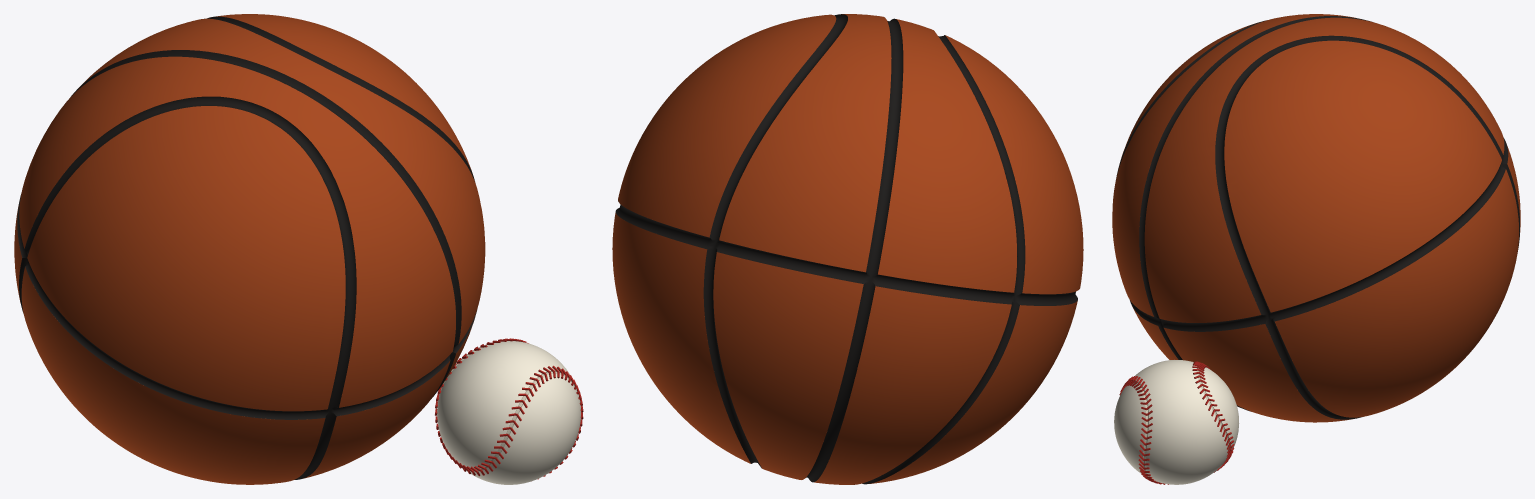
File: basketball-baseball.glb
3 views of the same model, side by side, from view 1: azimuth 30°, elevation 25°; view 2: azimuth 150°, elevation 25°; view 3: azimuth 270°, elevation 25° (orthographic). The views are drawn at different scales.
Parts seen in each view (by area): view 1: basketball, baseball, stitches; view 2: basketball; view 3: basketball, baseball, stitches.
Part boxes in pixels (left/top/right/bottom): basketball: left=14, top=14, right=485, bottom=484; baseball: left=437, top=341, right=580, bottom=484; stitches: left=435, top=338, right=583, bottom=479; basketball: left=612, top=14, right=1083, bottom=484; basketball: left=1112, top=14, right=1520, bottom=422; baseball: left=1114, top=360, right=1239, bottom=484; stitches: left=1119, top=361, right=1234, bottom=484.
Bounding box in the file's own units: 0.2607 × 0.2401 × 0.2389.
